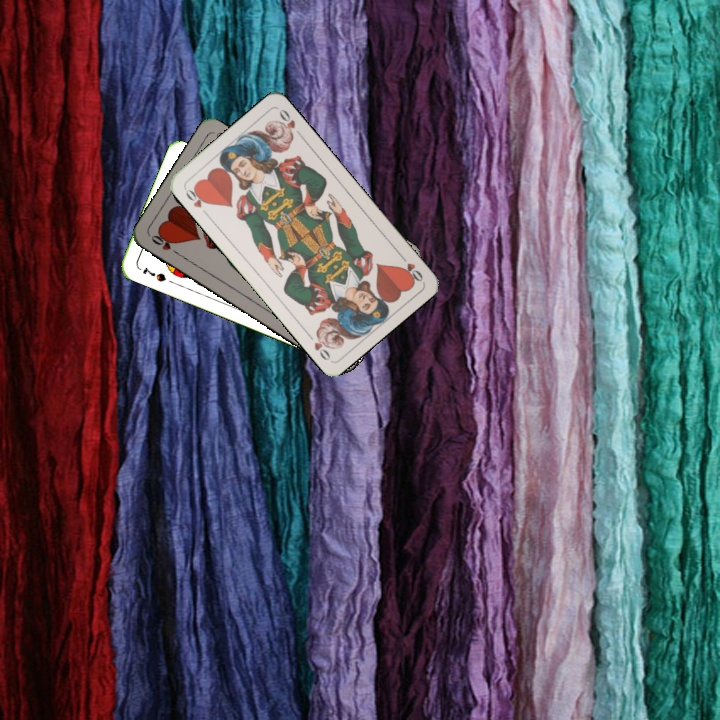HO: (395, 250, 426, 285), (181, 183, 211, 218), (147, 230, 183, 258)
S7: (138, 263, 169, 284)
